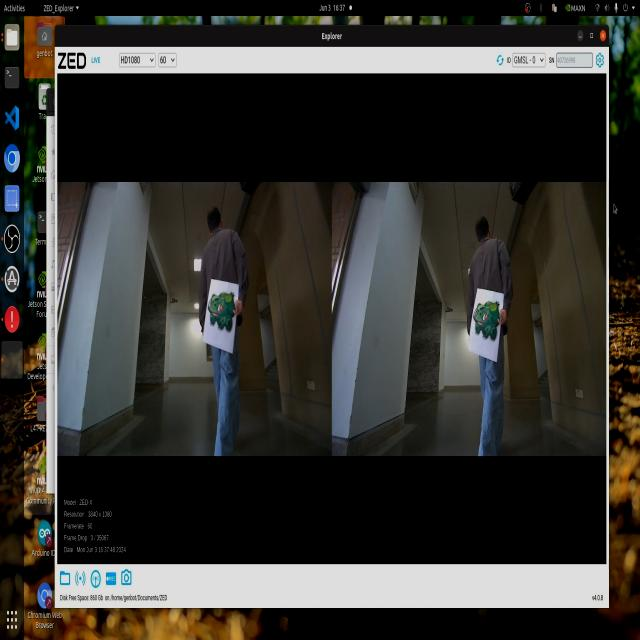green: (208, 289, 244, 334), (476, 290, 506, 344)
